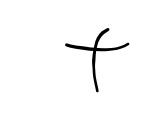plus: (63, 26, 129, 90)
